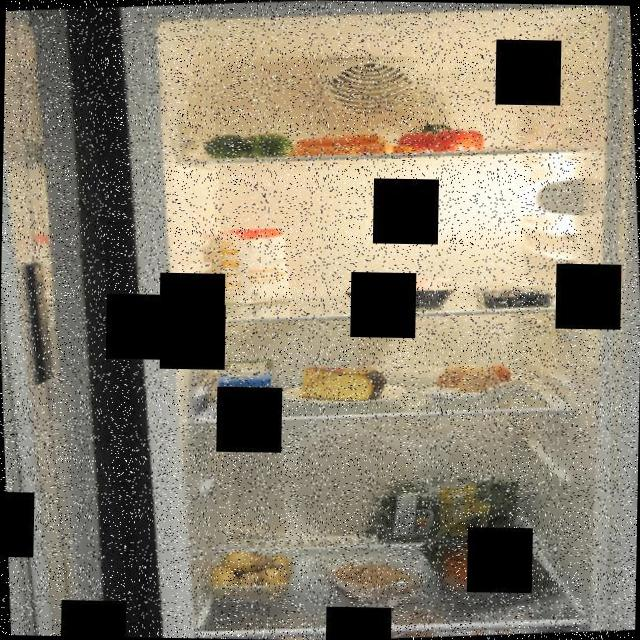Carne vacuno: (417, 534, 558, 610)
Gambas/Langostinos: (320, 554, 426, 610)
Huevos: (432, 358, 514, 398)
Leche: (216, 355, 280, 421)
Patata: (203, 541, 298, 603)
Queso: (301, 361, 388, 406)
Tomate: (394, 118, 486, 158)
Zanahoria: (286, 129, 416, 160)
